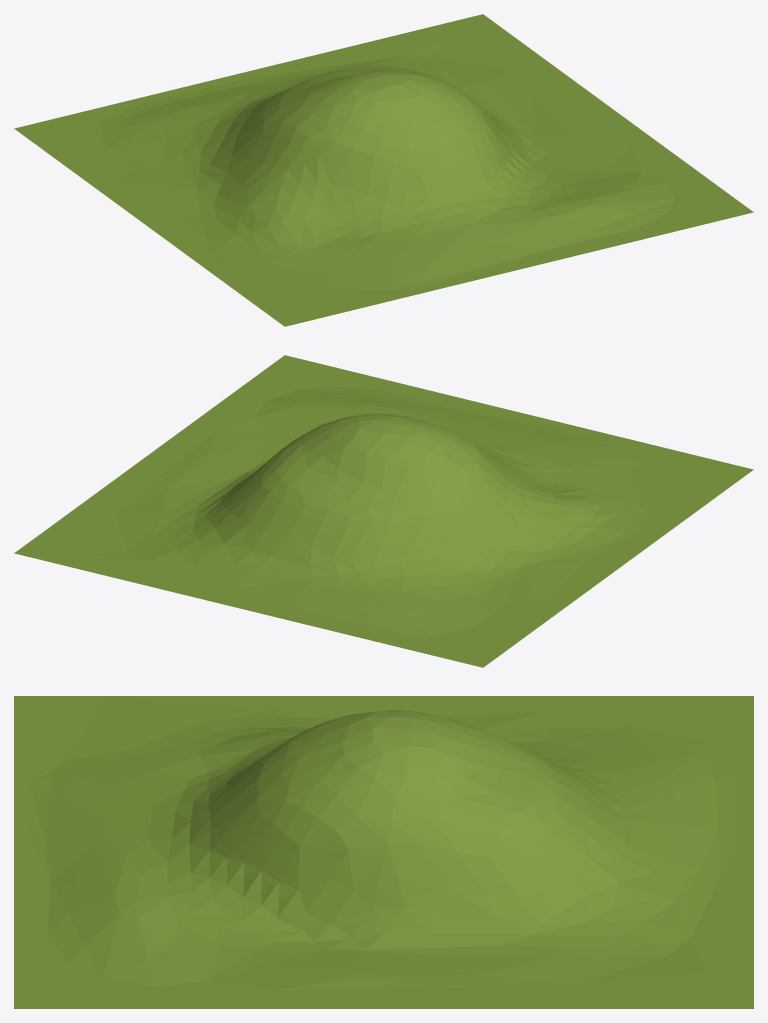
The model's file is Mesh_Landscape_Terrain_04.FBX.
The picture shows the model from 3 angles, top to bottom: view 1: azimuth 30°, elevation 25°; view 2: azimuth 150°, elevation 25°; view 3: azimuth 270°, elevation 25°; orthographic projection. The views are drawn at different scales.
Parts seen in each view (by area): view 1: Mesh_Landscape_Terrain_04; view 2: Mesh_Landscape_Terrain_04; view 3: Mesh_Landscape_Terrain_04.
Part boxes in pixels (bbox=[...]): Mesh_Landscape_Terrain_04: bbox=[14, 14, 753, 326]; Mesh_Landscape_Terrain_04: bbox=[14, 355, 753, 667]; Mesh_Landscape_Terrain_04: bbox=[14, 696, 753, 1008].
Bounding box in the file's own units: 12800 × 12800 × 2293.
